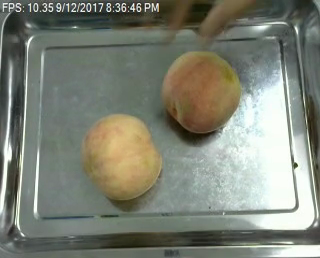Peach: (80, 113, 162, 200), (161, 48, 240, 134)
